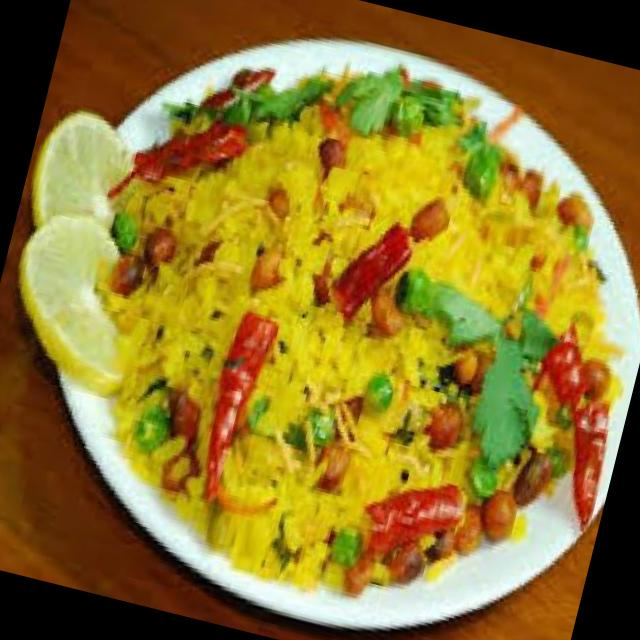poha: (30, 7, 640, 640)
